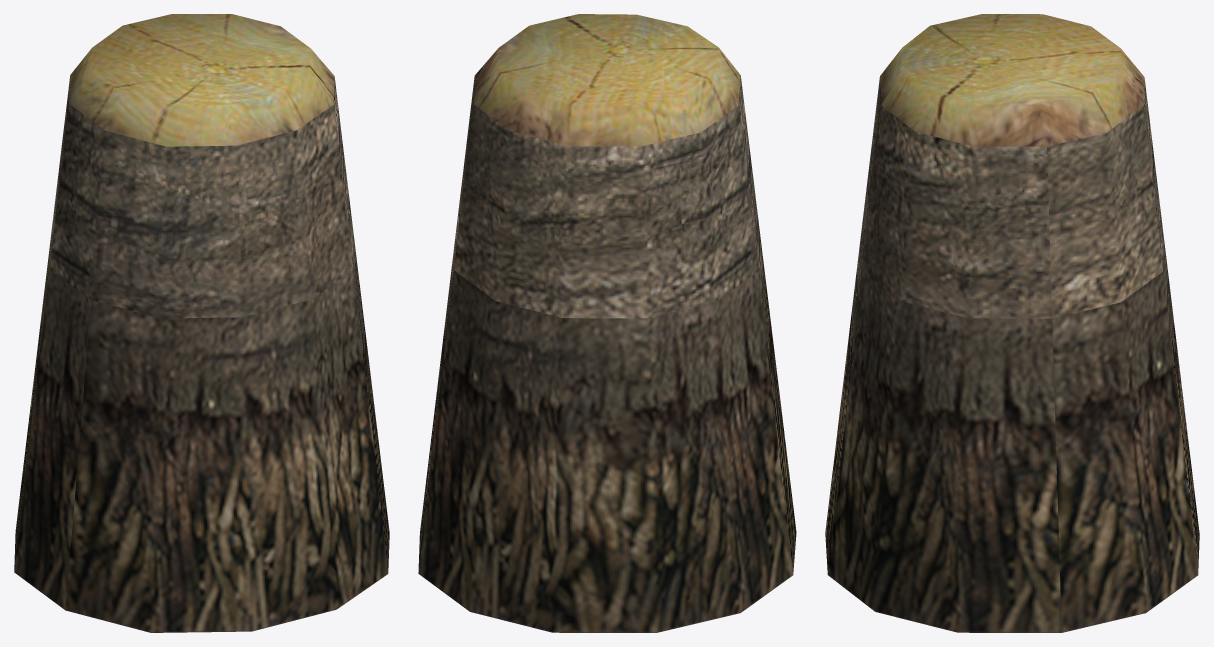
Rendered from fracturePiece0.fbx.
3 views of the same model, side by side, from view 1: azimuth 30°, elevation 25°; view 2: azimuth 150°, elevation 25°; view 3: azimuth 270°, elevation 25° (orthographic).
Visible parts, largest first — view 1: fracturePiece0; view 2: fracturePiece0; view 3: fracturePiece0.
Boxes of the visible parts, left/top/right/bottom form: fracturePiece0: left=14, top=14, right=389, bottom=632; fracturePiece0: left=418, top=14, right=796, bottom=632; fracturePiece0: left=825, top=14, right=1199, bottom=632.
Size of the model in its own units: 175 by 255 by 175.
